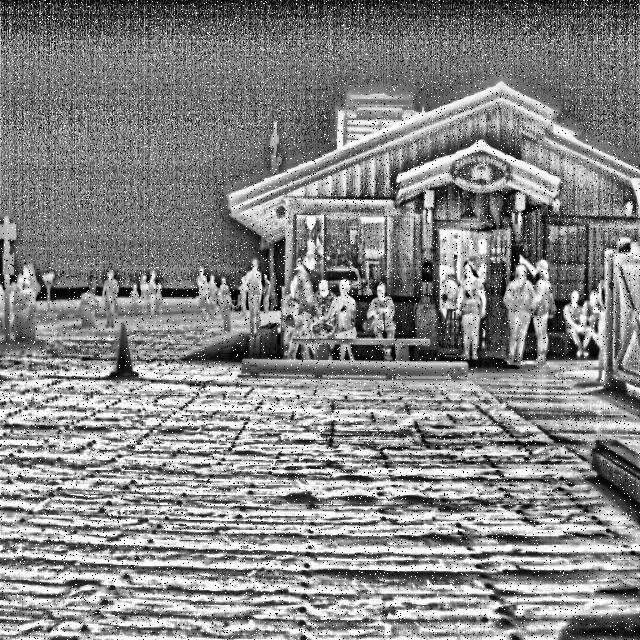car: (520, 246, 566, 368), (292, 247, 336, 361), (452, 261, 492, 366), (498, 251, 533, 364), (366, 275, 408, 363), (241, 260, 276, 352), (333, 272, 364, 369), (20, 259, 50, 330), (98, 268, 124, 329), (127, 271, 156, 321), (197, 266, 222, 320), (216, 278, 238, 336), (147, 268, 169, 318)
traffic cone: (99, 322, 148, 380)
